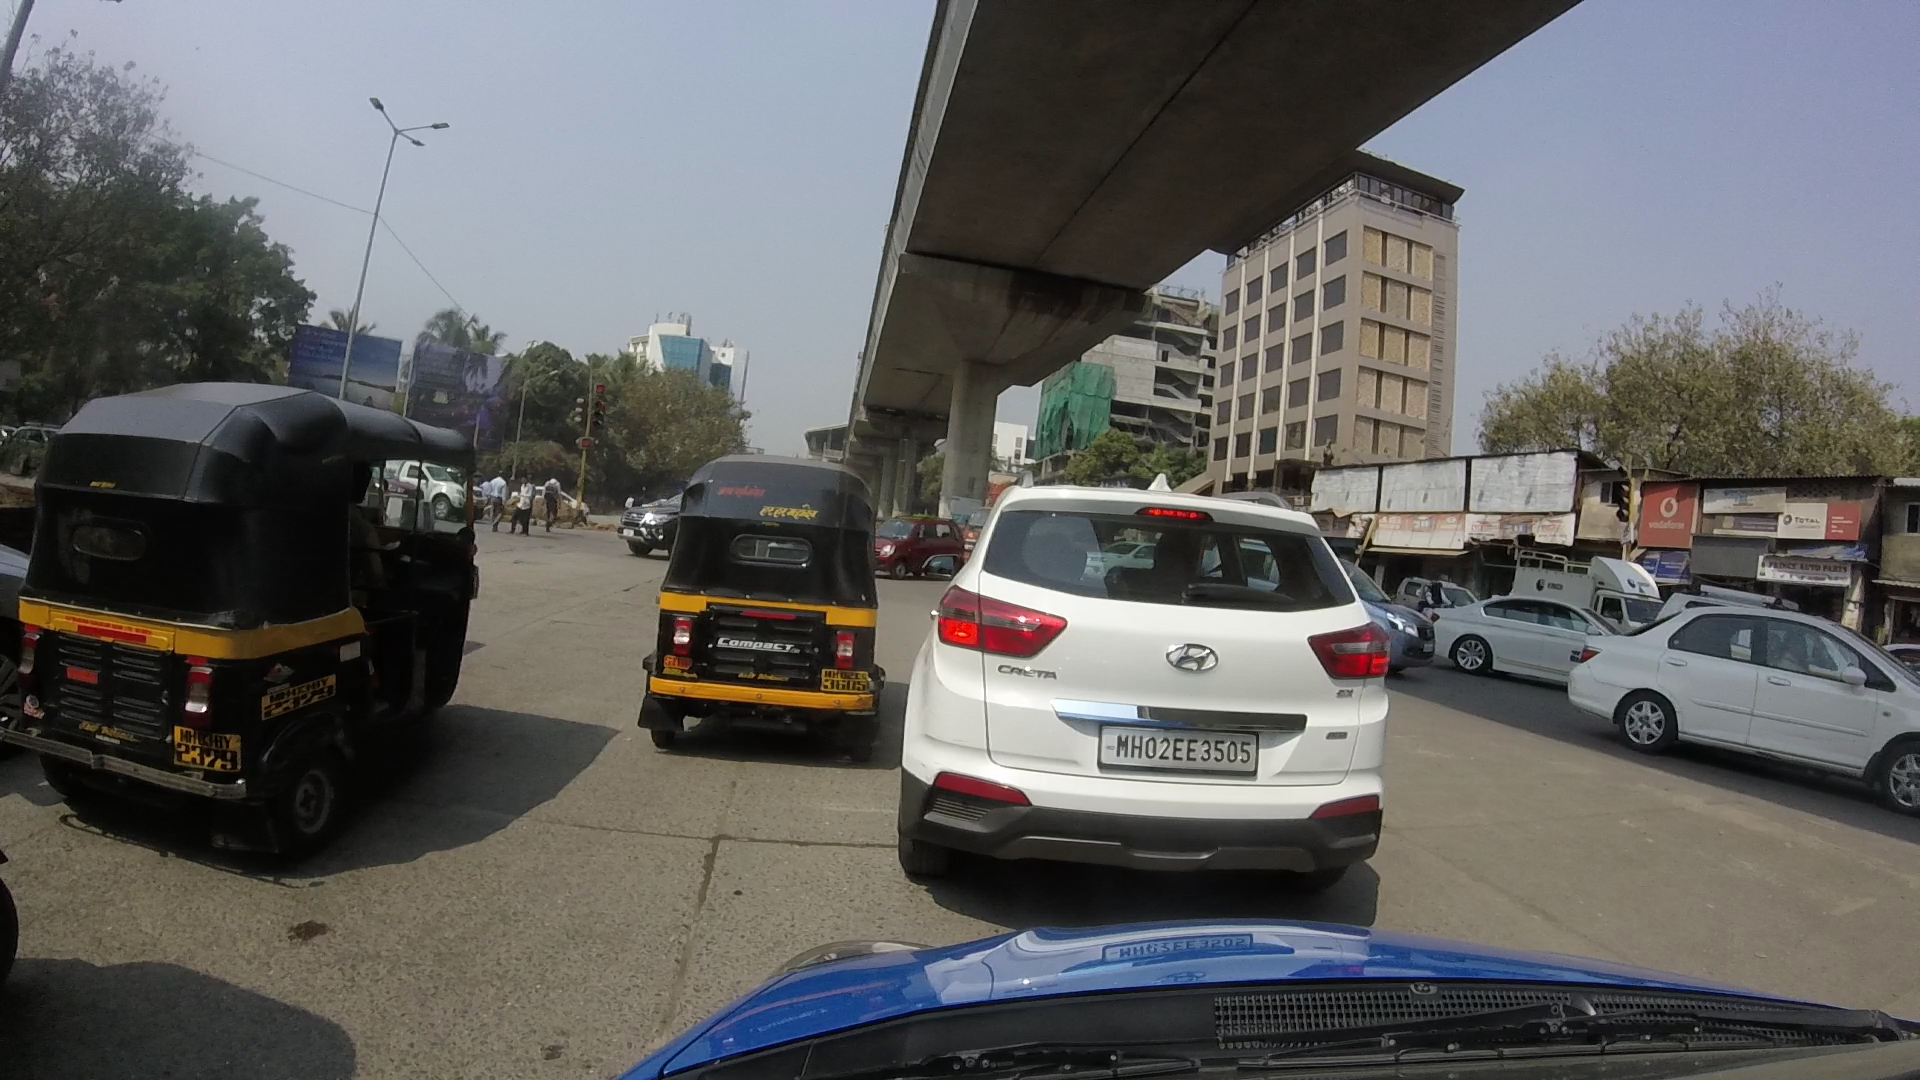car: (884, 480, 1408, 901), (1565, 587, 1920, 840), (1398, 568, 1633, 690)
rickshaw: (12, 351, 468, 845), (636, 386, 910, 764)
